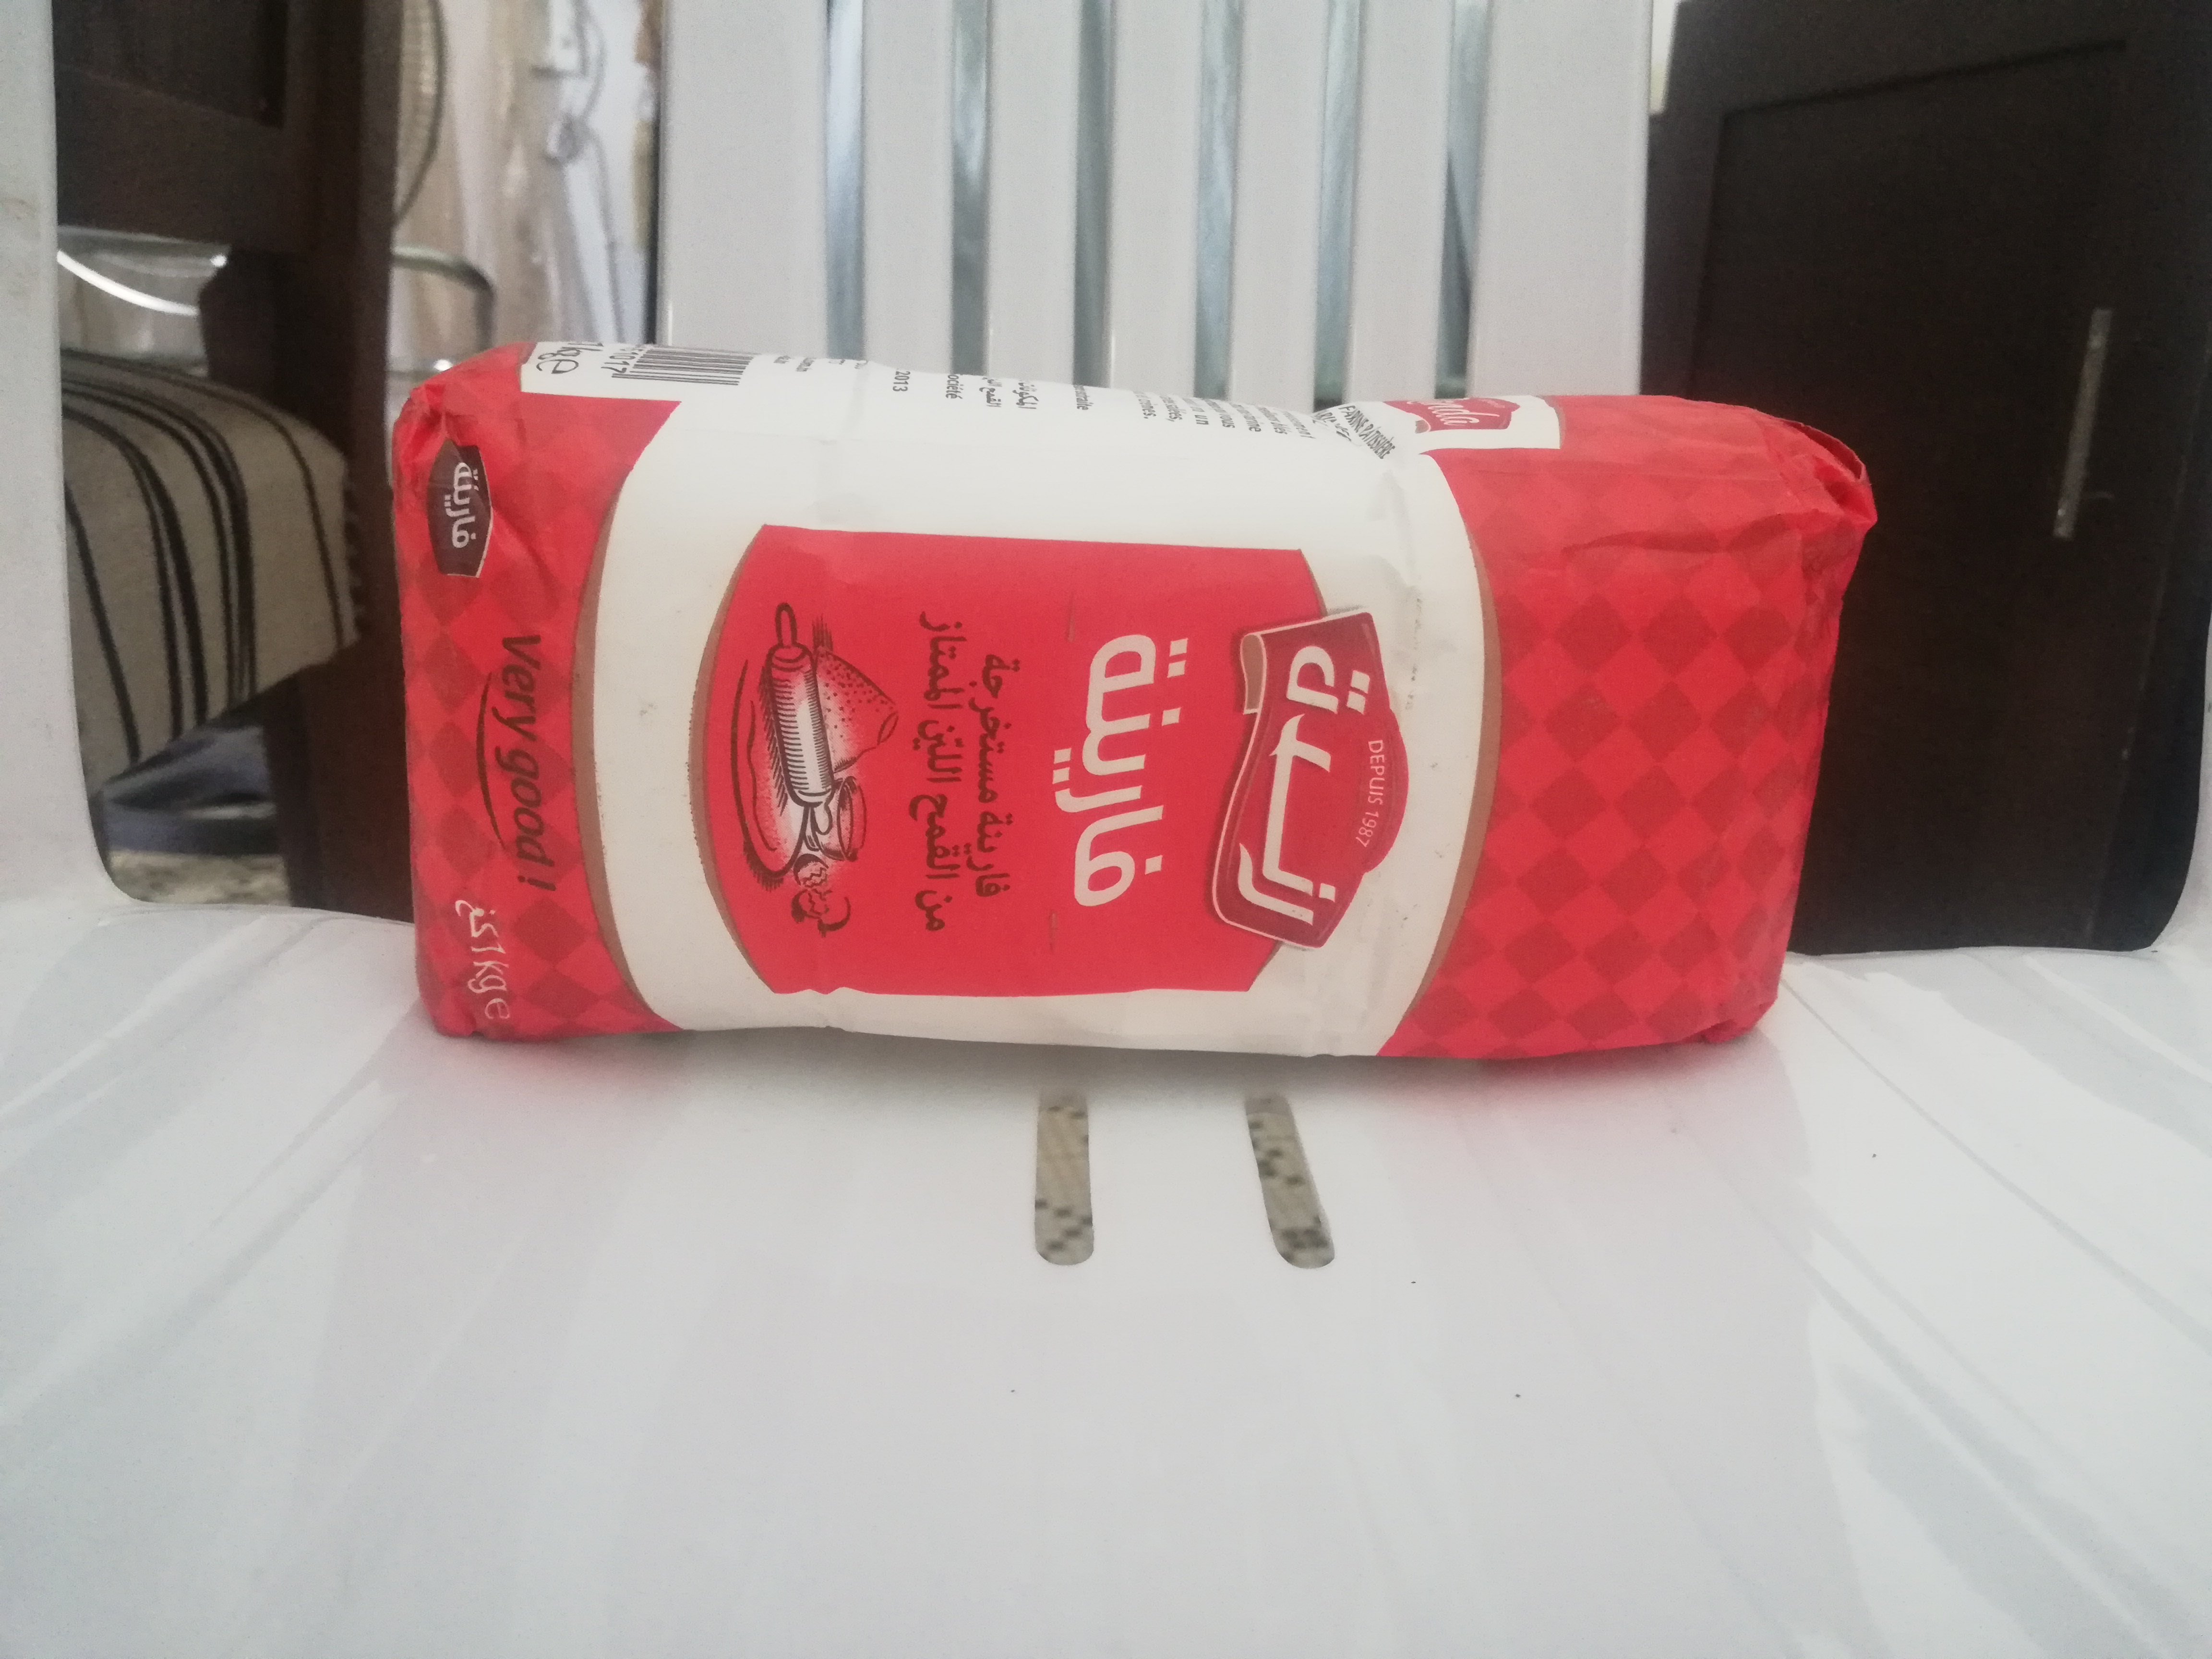Farine Randa: (394, 335, 1876, 1051)
